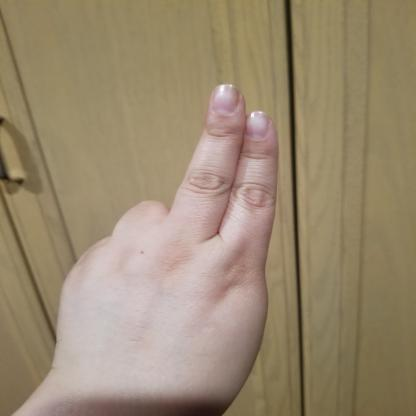U: (40, 79, 284, 416)
